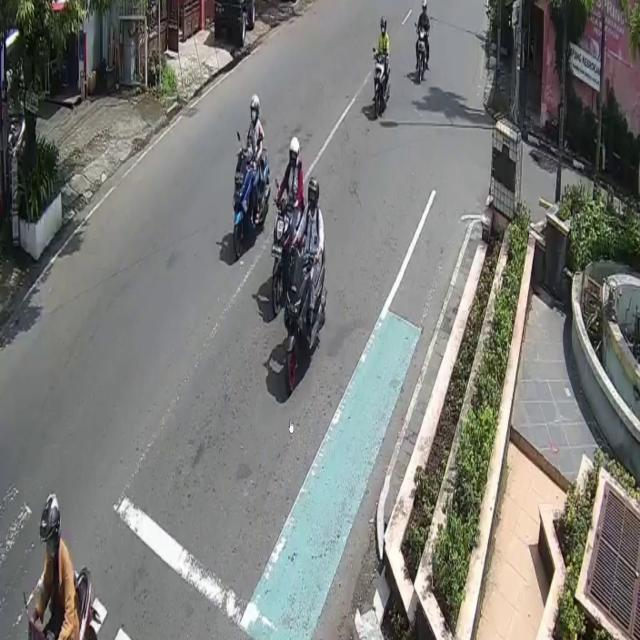motorbike: (284, 240, 328, 395), (232, 144, 270, 266), (373, 49, 392, 114), (415, 27, 430, 80)
